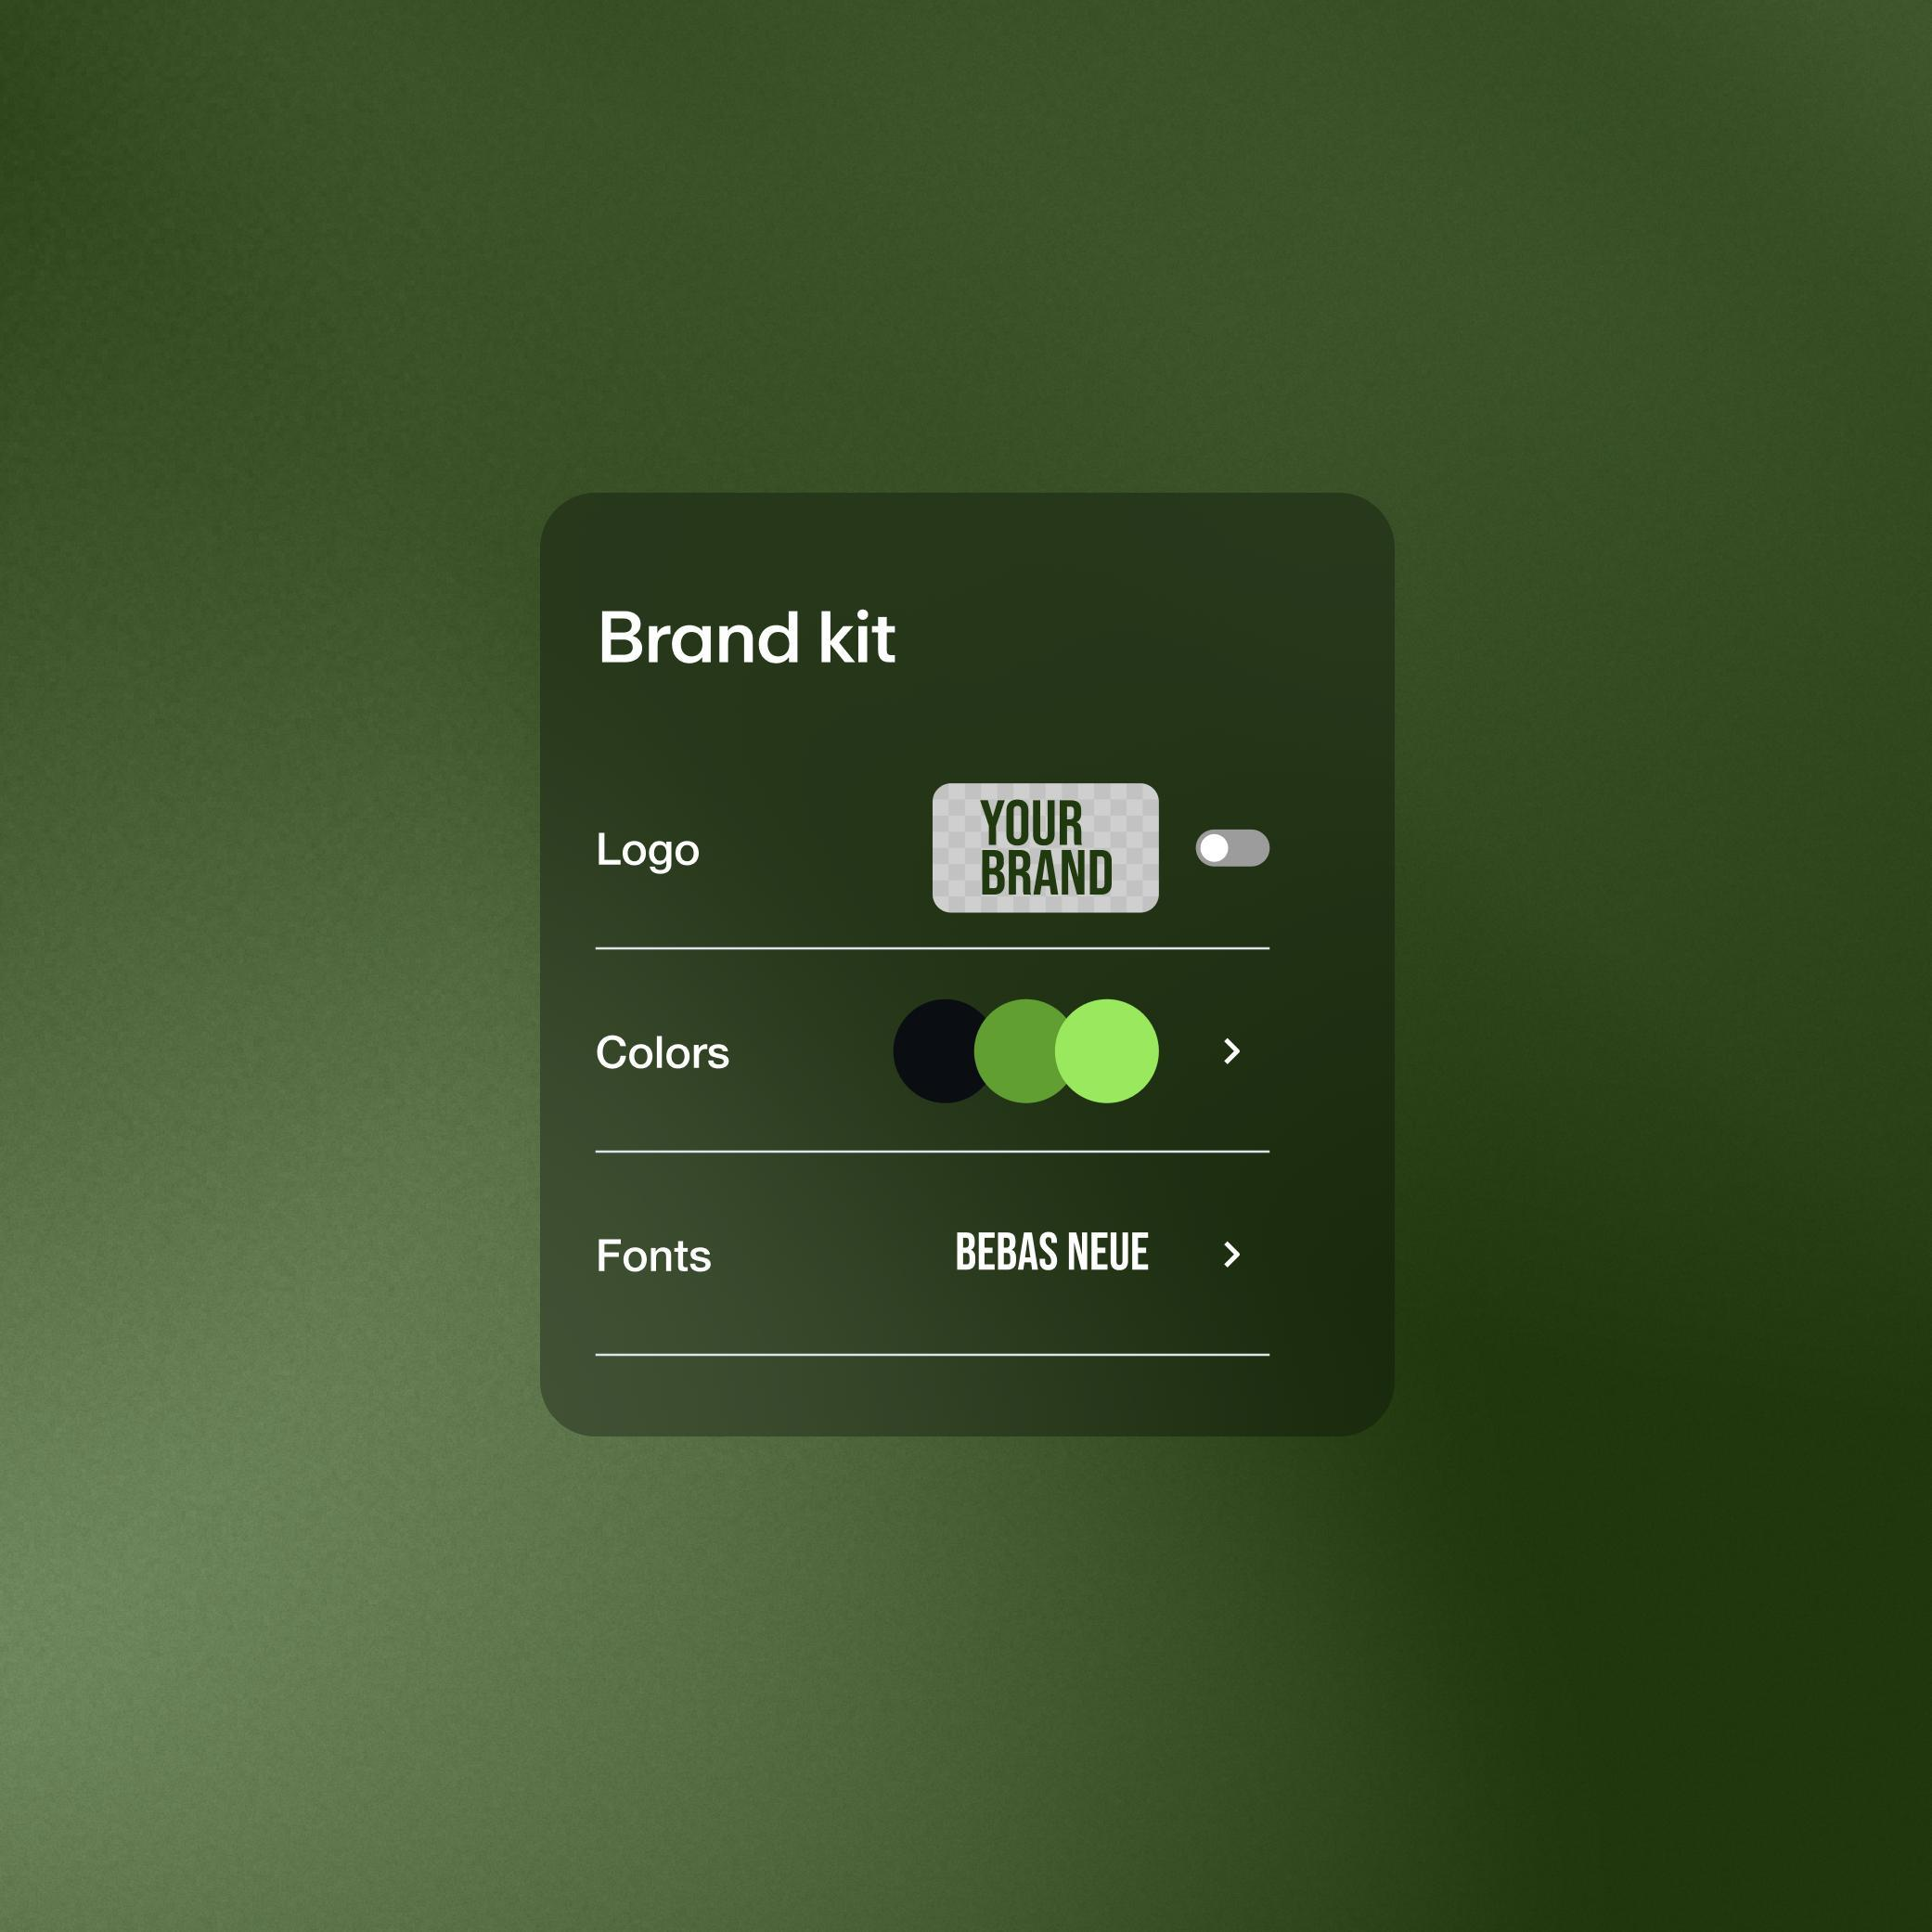label: (593, 602, 904, 681), (943, 1228, 1161, 1283), (593, 1023, 741, 1085), (582, 824, 729, 881), (586, 1226, 715, 1283)
switch: (1198, 824, 1279, 878)
